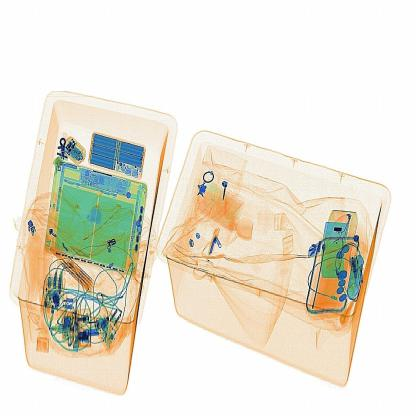pliers: (199, 217, 239, 272)
